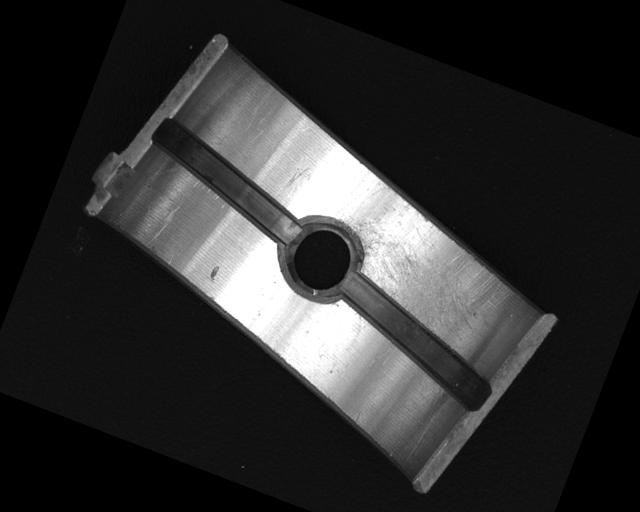bruise: (206, 262, 221, 282)
gap: (318, 271, 510, 415), (134, 114, 321, 246)
hole: (266, 204, 374, 314)
nick: (274, 158, 311, 206), (148, 199, 182, 250)
scratch: (309, 164, 529, 358)
